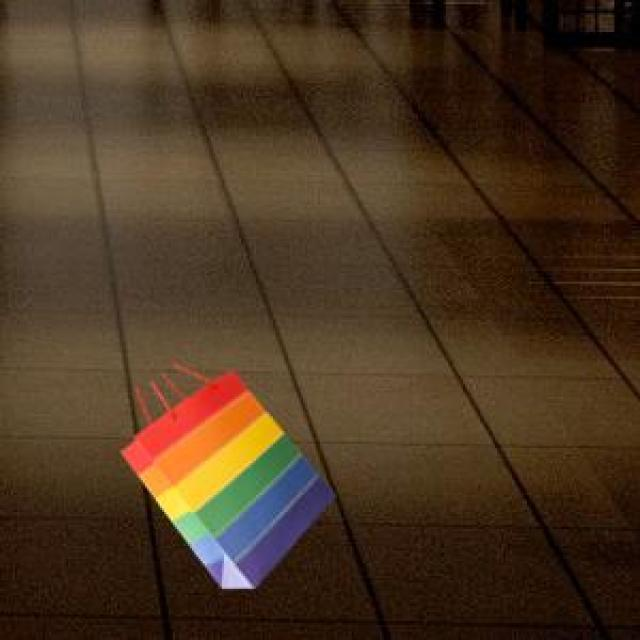paper: (117, 367, 331, 585)
